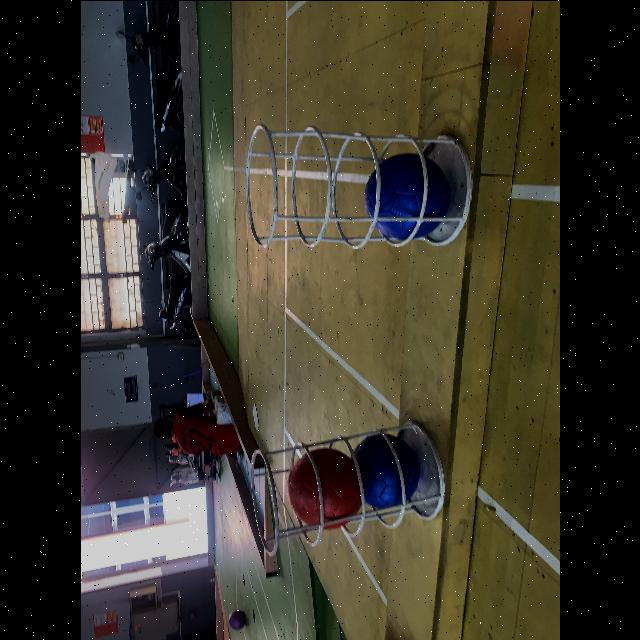B: (365, 150, 451, 236), (348, 433, 419, 507)
R: (288, 448, 362, 528)
